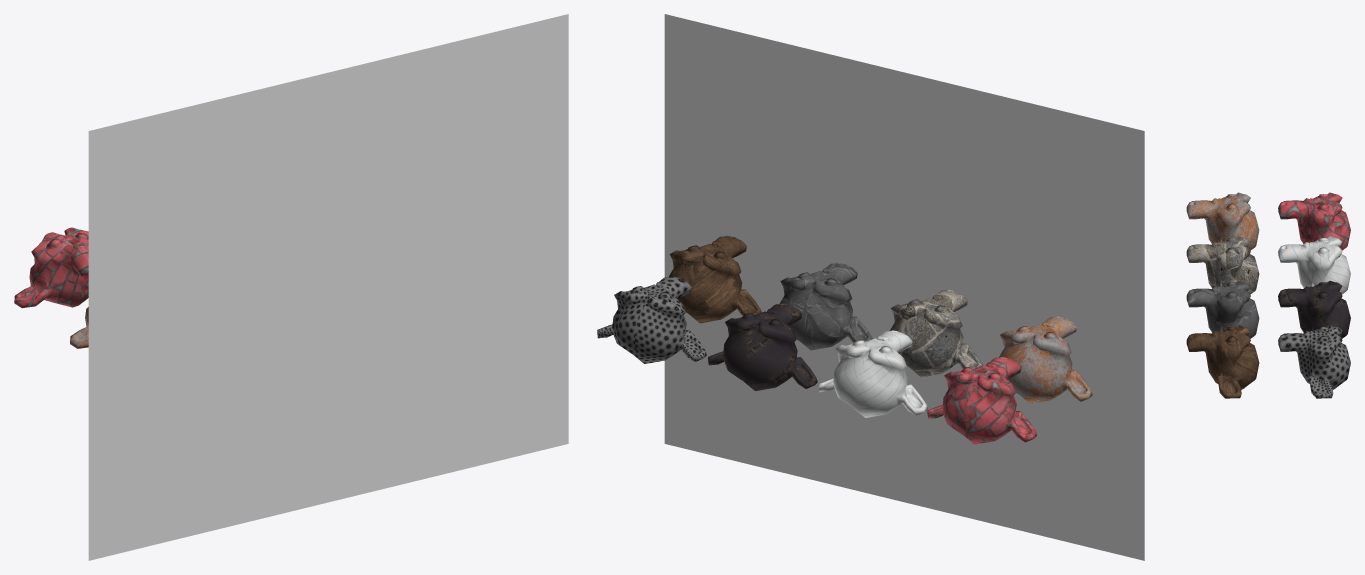
Rendered from textures_scene.dae.
The picture shows the model from 3 angles, left to right: view 1: azimuth 30°, elevation 25°; view 2: azimuth 150°, elevation 25°; view 3: azimuth 270°, elevation 25°; orthographic projection. The views are drawn at different scales.
Parts seen in each view (by area): view 1: Plane, Suzanne.007; view 2: Plane, Suzanne.007, Suzanne.005, Suzanne.004, Suzanne.006, Suzanne.003, Suzanne, Suzanne.001, Suzanne.002; view 3: Suzanne, Suzanne.004, Suzanne.001, Suzanne.005, Suzanne.006, Suzanne.002, Suzanne.007, Suzanne.003.
Boxes of the visible parts, x1,y1,x2,y2 form: Plane: (88, 14, 568, 560); Suzanne.007: (14, 227, 88, 308); Plane: (664, 14, 1144, 560); Suzanne.007: (927, 357, 1036, 444); Suzanne.005: (708, 303, 817, 390); Suzanne.004: (597, 276, 706, 363); Suzanne.006: (818, 330, 927, 417); Suzanne.003: (999, 316, 1092, 403); Suzanne: (669, 235, 761, 323); Suzanne.001: (779, 263, 872, 350); Suzanne.002: (890, 289, 982, 377); Suzanne: (1186, 325, 1259, 398); Suzanne.004: (1278, 325, 1350, 398); Suzanne.001: (1186, 280, 1259, 338); Suzanne.005: (1278, 280, 1350, 338); Suzanne.006: (1278, 236, 1350, 294); Suzanne.002: (1186, 236, 1259, 294); Suzanne.007: (1278, 192, 1350, 250); Suzanne.003: (1186, 192, 1259, 250).
Size of the model in its own units: 12.33 by 4.81 by 10.55.
